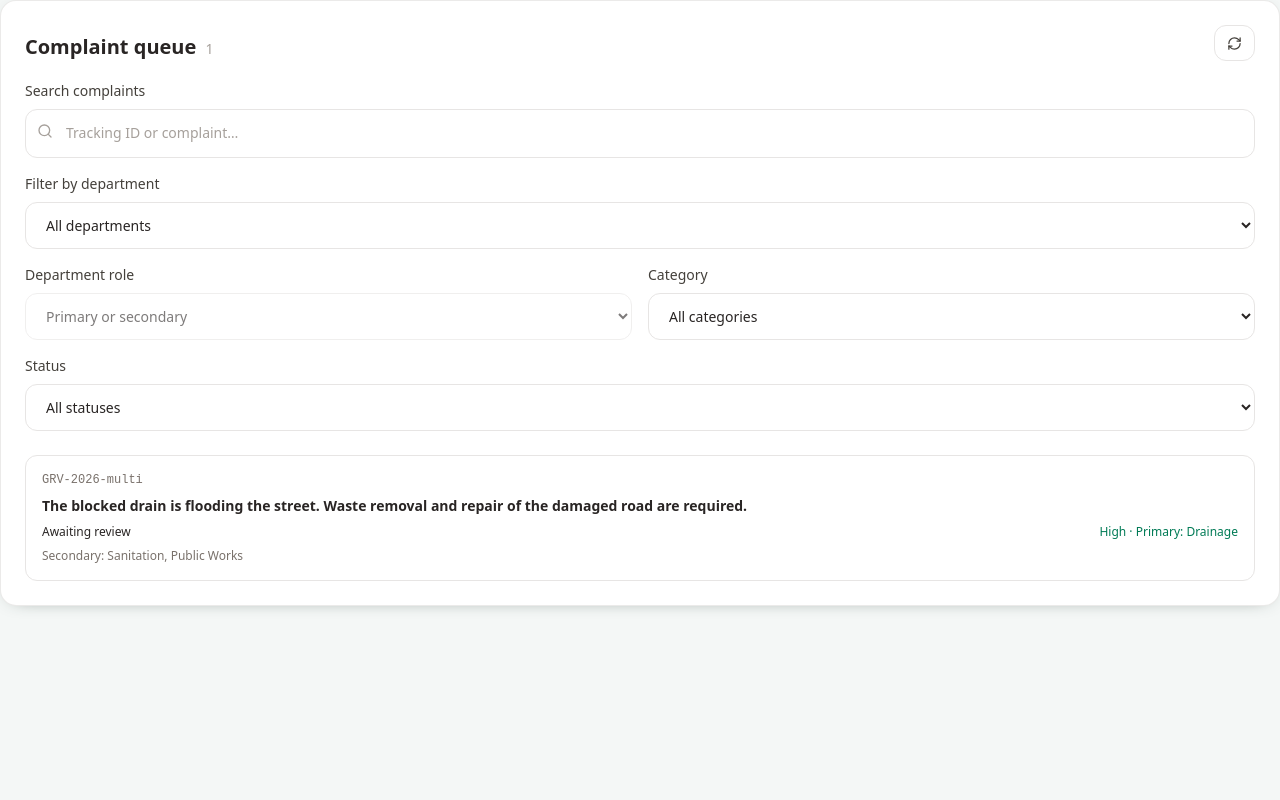
Test: officers explicitly confirm supporting departments and cannot select the primary twice
The width and height of the screenshot is (1280, 800).
Click the button "GRV-2026-multi": click(640, 518) [25,455,1255,581]
(page scrolled)
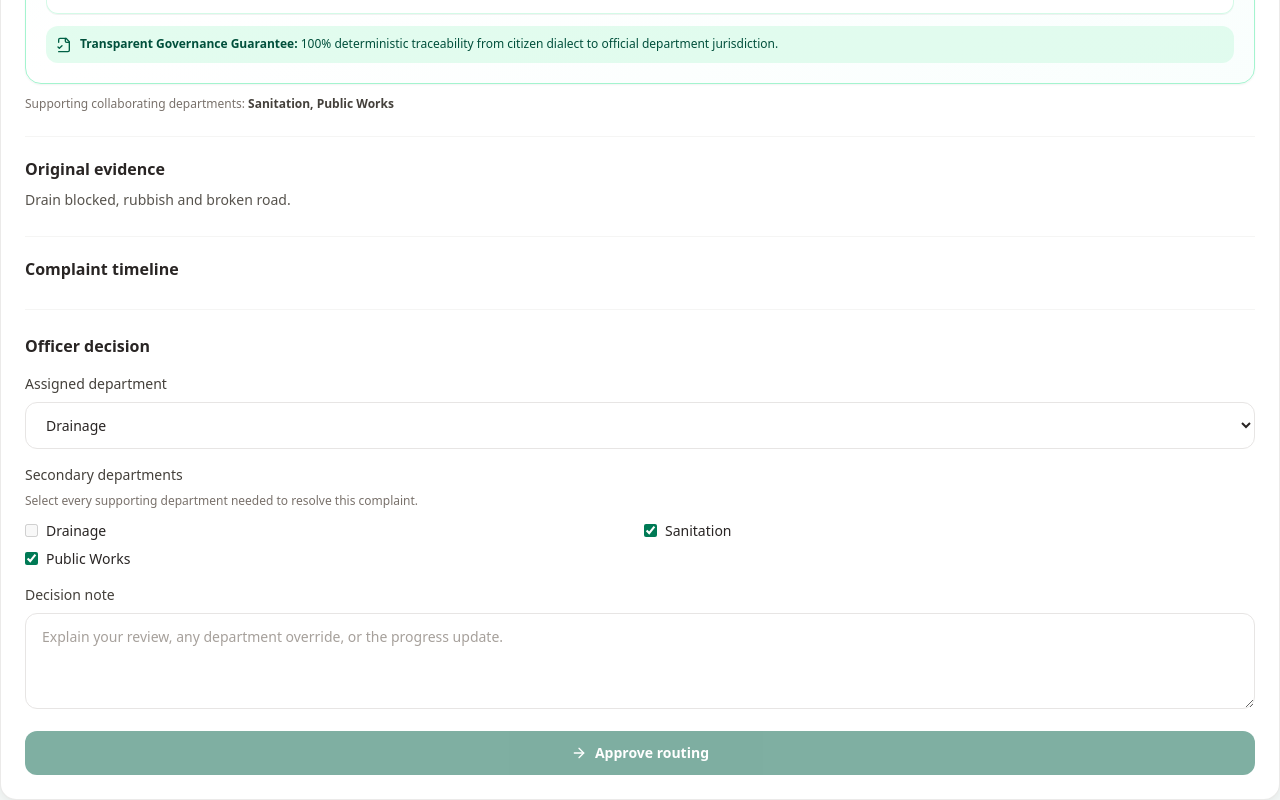
Expected: the checkbox labelled "Sanitation" is checked, [644,524,657,537]
Expected: the checkbox labelled "Public Works" is checked, [25,552,38,565]
Select "Sanitation" in the dropdown labelled "Assigned department": (640, 425) [25,402,1255,448]
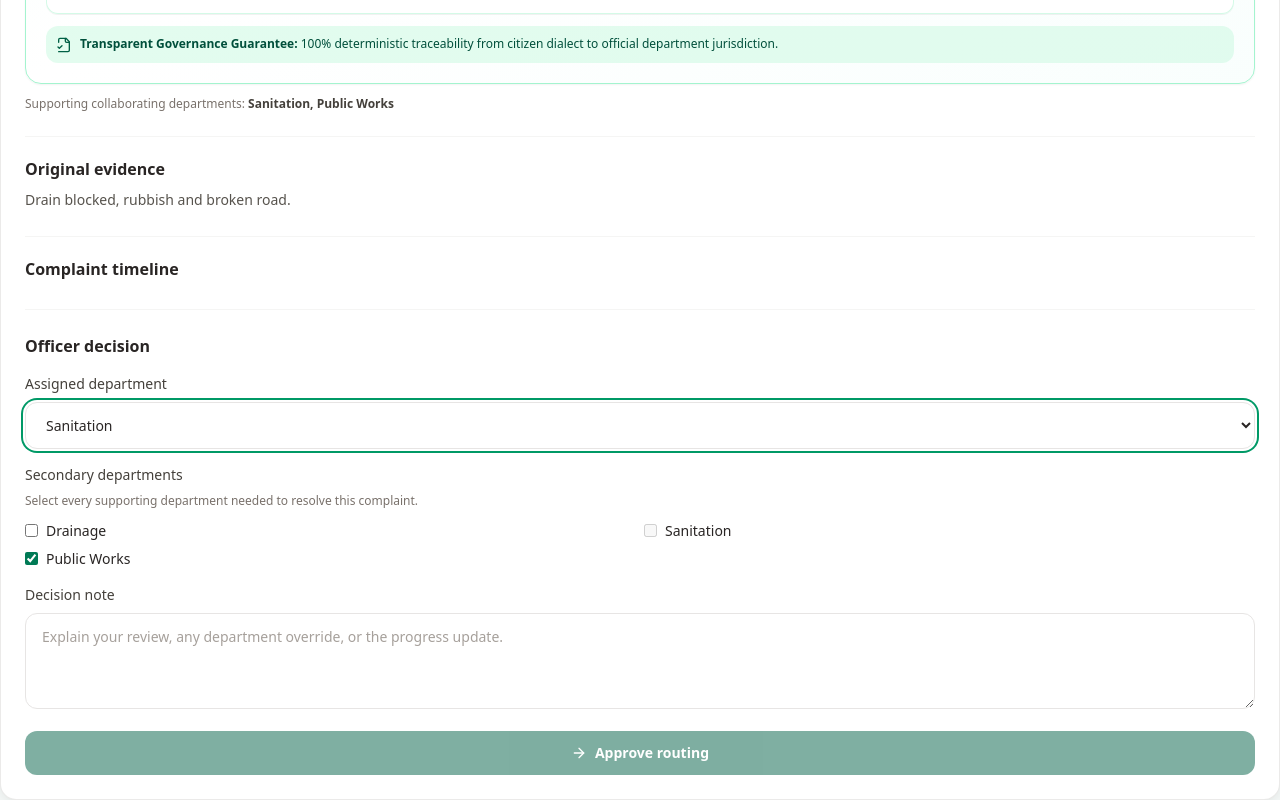
Expected: the checkbox labelled "Sanitation" is disabled, [644,524,657,537]
Expected: the checkbox labelled "Sanitation" is not checked, [644,524,657,537]
In the text box labelled "Decision note": (640, 660) [25,612,1255,708], type "Reviewed the waste and road repair responsibilities."
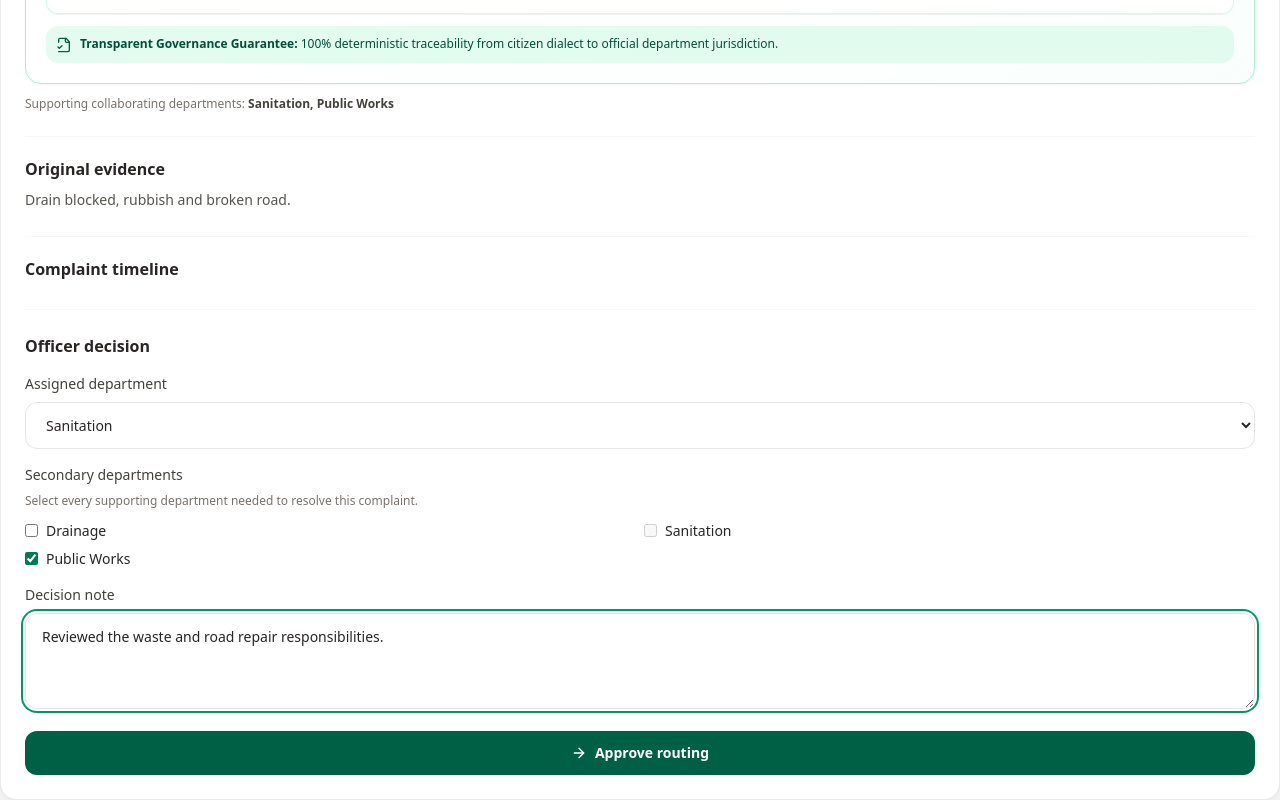
Click the button "Approve routing": click(640, 752) [25,730,1255,774]
(page scrolled)
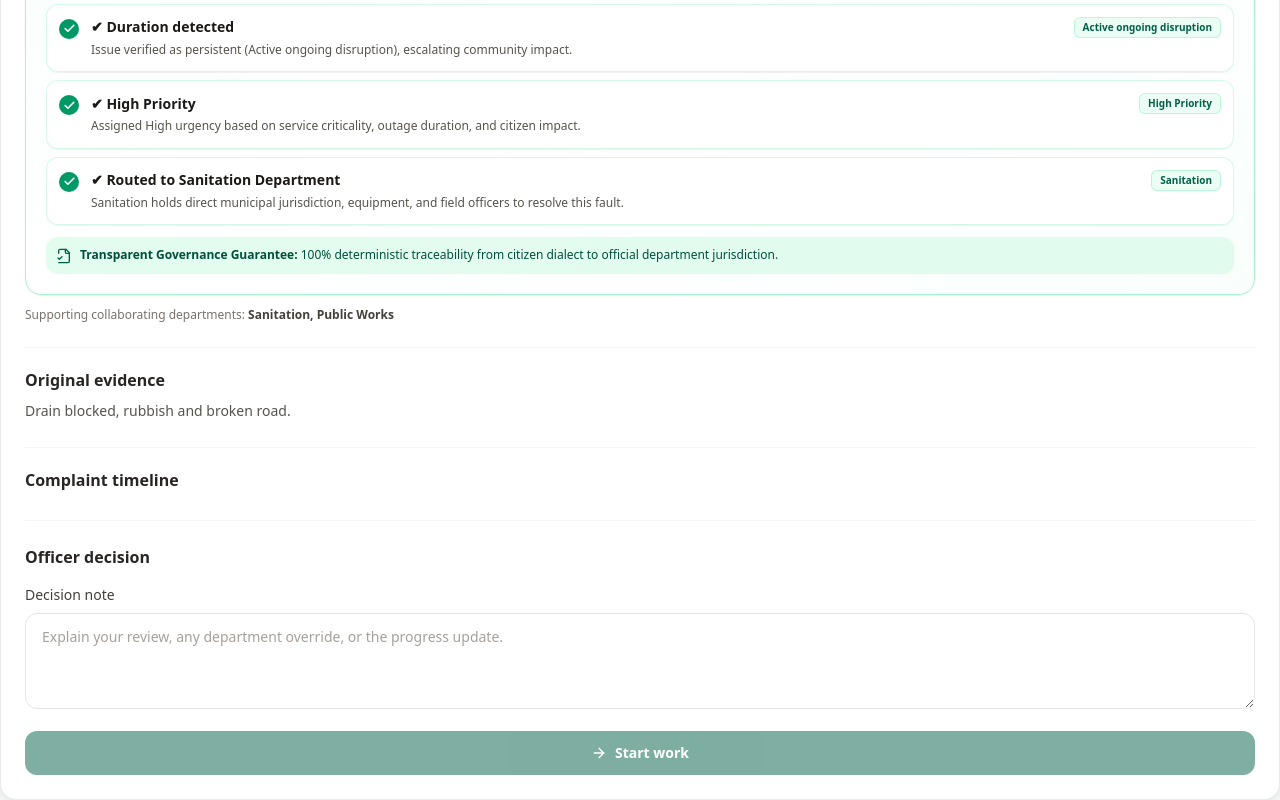
Expected: the button "Start work" is shown, [25,730,1255,774]
